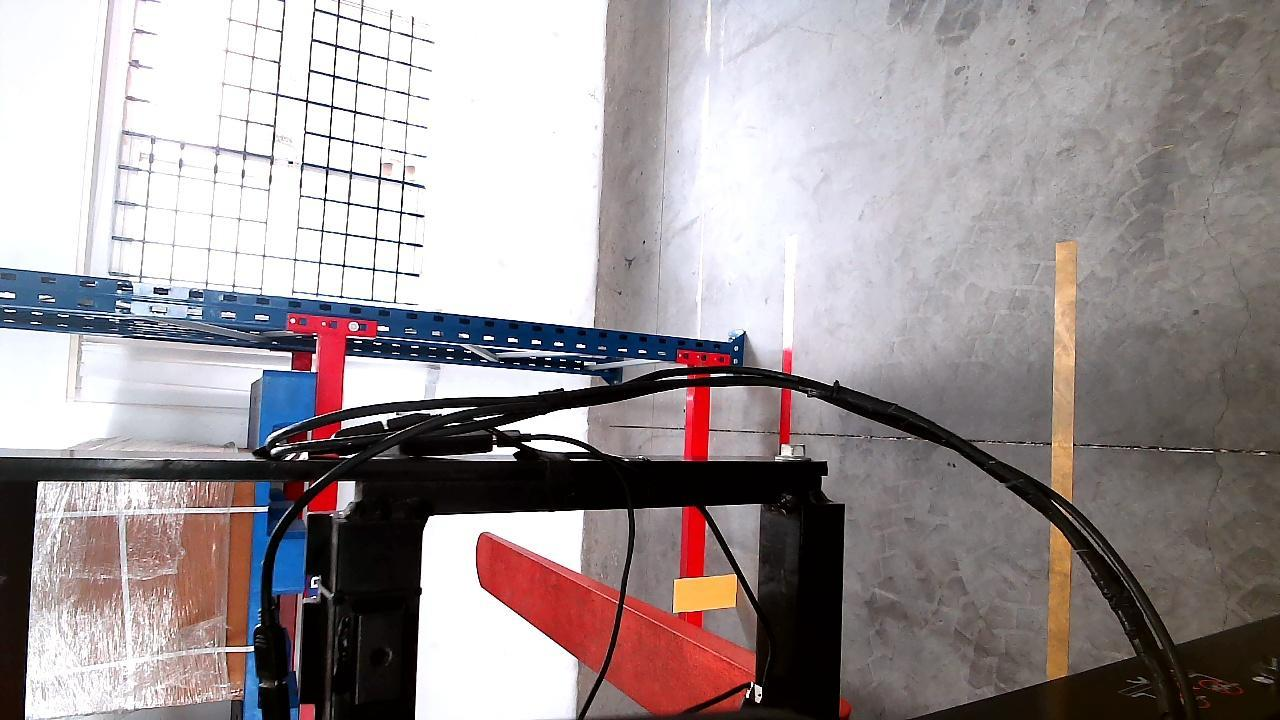red_line: (780, 235, 797, 442)
yellow_line: (1047, 227, 1077, 695)
